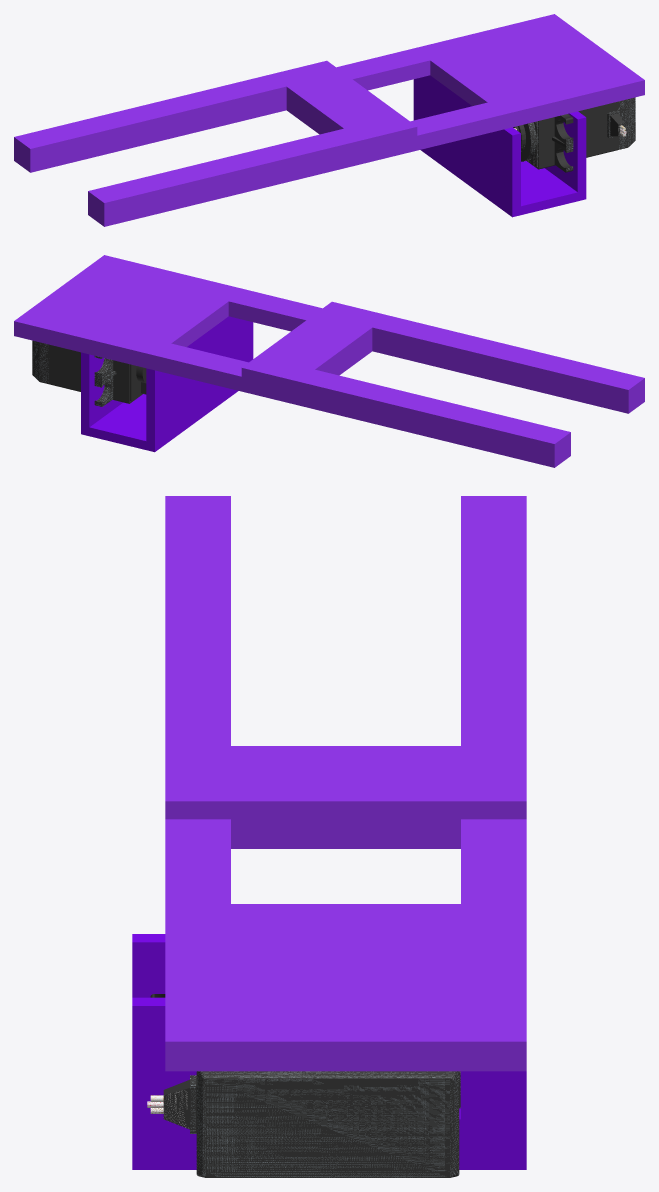
Rendered from servolengan.obj.
The picture shows the model from 3 angles, top to bottom: view 1: azimuth 30°, elevation 25°; view 2: azimuth 150°, elevation 25°; view 3: azimuth 270°, elevation 25°; orthographic projection. The views are drawn at different scales.
Parts seen in each view (by area): view 1: Mesh2 lenganambil1 Model, Mesh1 servo1 Model; view 2: Mesh2 lenganambil1 Model, Mesh1 servo1 Model; view 3: Mesh2 lenganambil1 Model, Mesh1 servo1 Model.
Part boxes in pixels (left/top/right/bottom): Mesh2 lenganambil1 Model: left=14, top=14, right=644, bottom=226; Mesh1 servo1 Model: left=513, top=97, right=635, bottom=172; Mesh2 lenganambil1 Model: left=14, top=255, right=644, bottom=467; Mesh1 servo1 Model: left=32, top=340, right=146, bottom=406; Mesh2 lenganambil1 Model: left=132, top=496, right=526, bottom=1169; Mesh1 servo1 Model: left=147, top=994, right=460, bottom=1177.
Bounding box in the file's own units: 19 × 3.55 × 6.
